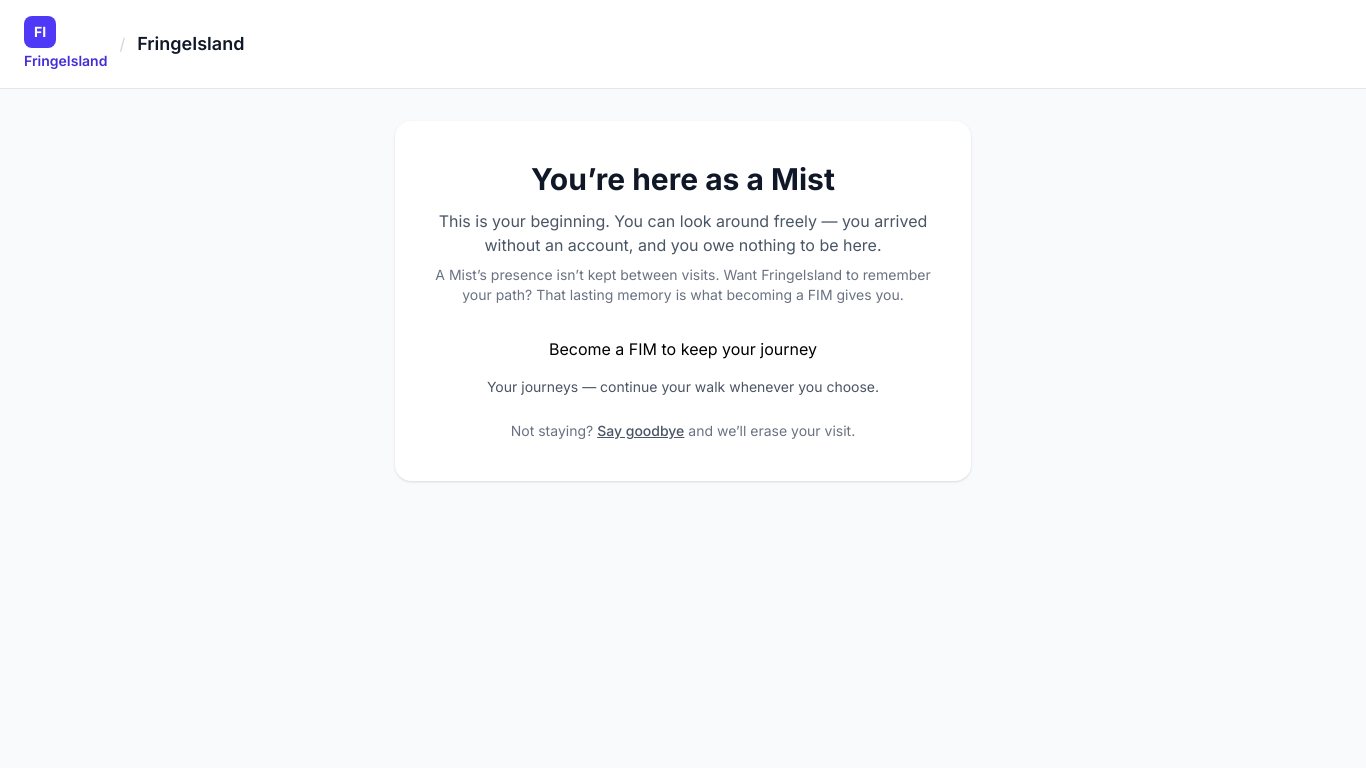
Test: FEAT-H004 STORY-3 (unit) — the farewell › surfaces a farewell failure and does not navigate
Click the button "Say goodbye": click(641, 431) [597,421,684,441]
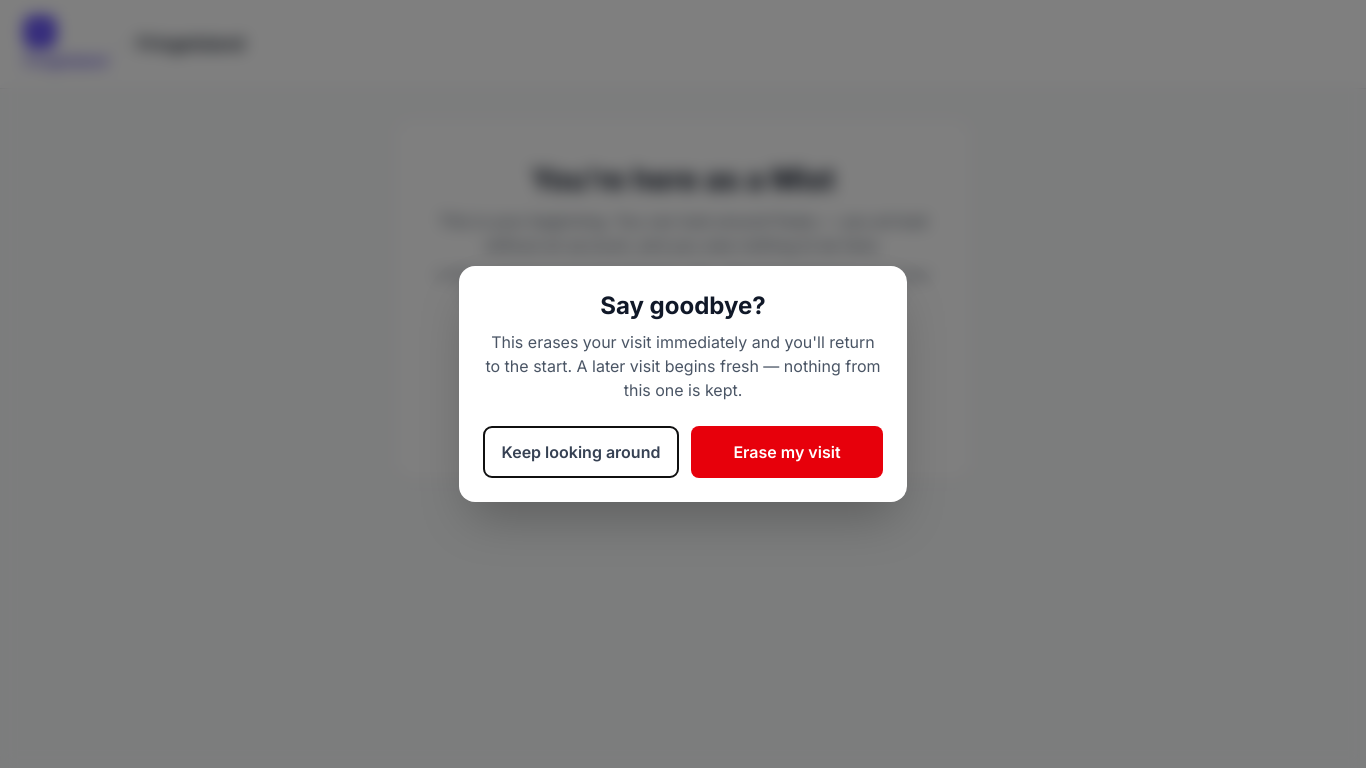
Click the button with test id "confirm-modal-confirm": click(787, 452) [691,426,883,478]
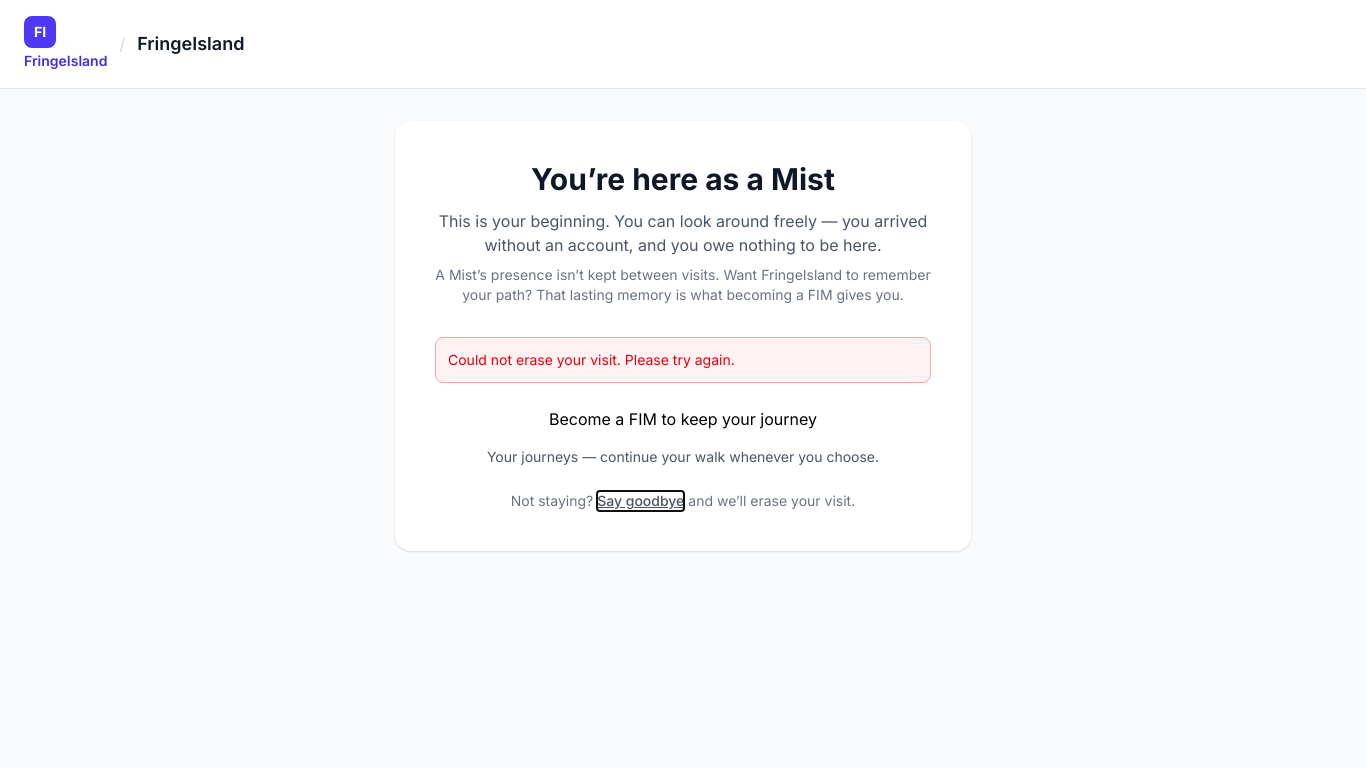
Now the message with test id "inline-error" shows "Could not erase your visit", box [448,351,735,368]
